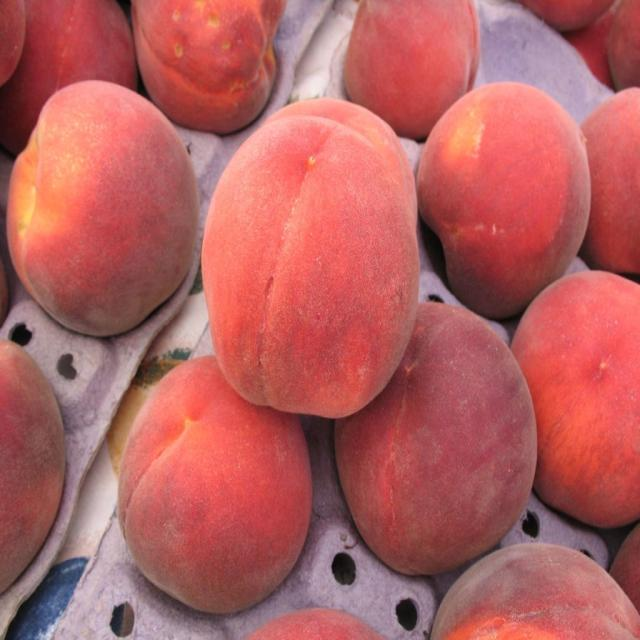Peach: (0, 0, 639, 639), (6, 80, 195, 336)
